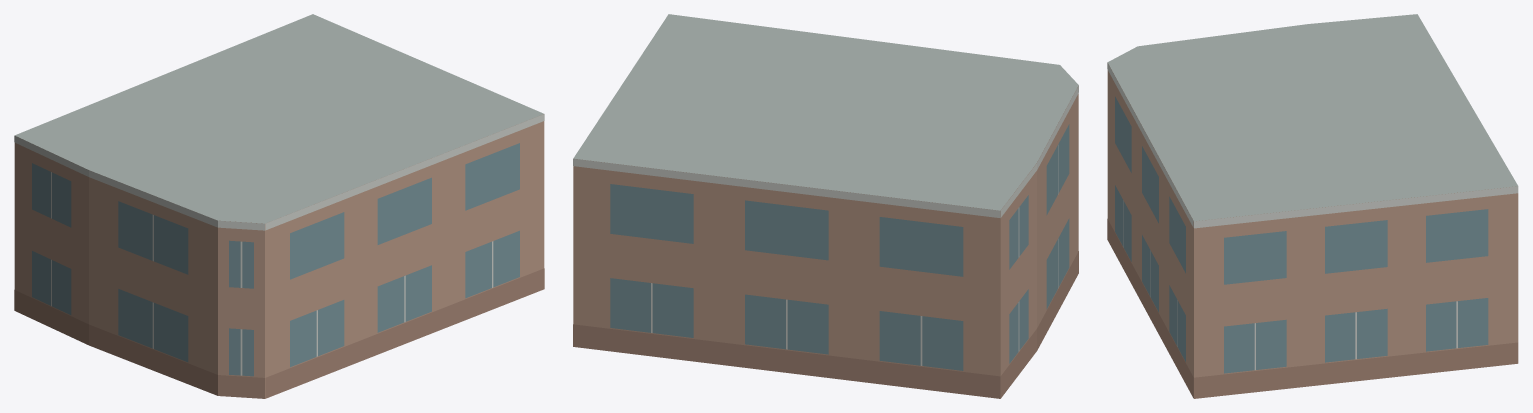
File: survey-upis-32832262.glb
3 renders of one model, left to right at view 1: azimuth 30°, elevation 25°; view 2: azimuth 150°, elevation 25°; view 3: azimuth 270°, elevation 25°, orthographic. The views are drawn at different scales.
Visible parts, largest first — view 1: survey-upis-32832262.tmp; view 2: survey-upis-32832262.tmp; view 3: survey-upis-32832262.tmp.
Part boxes in pixels (x1,y1,x2,y2): survey-upis-32832262.tmp: (14, 14, 544, 398); survey-upis-32832262.tmp: (573, 14, 1078, 398); survey-upis-32832262.tmp: (1107, 14, 1518, 398).
Bounding box in the file's own units: 15.29 × 6.1 × 12.81.
